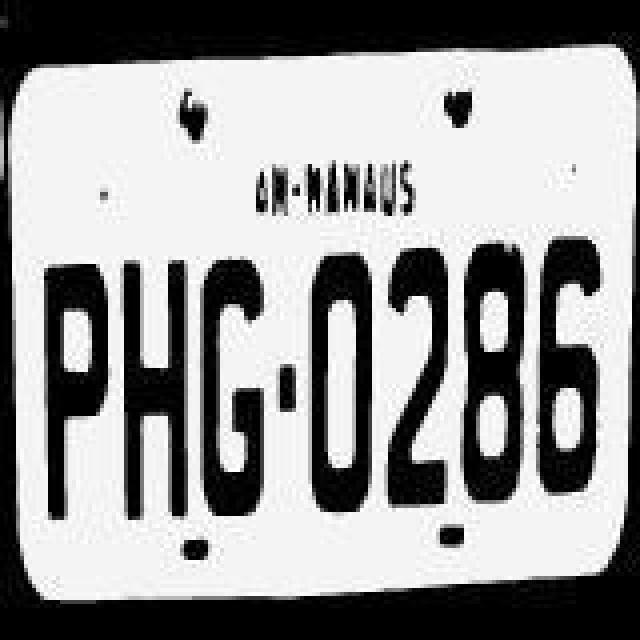2: (384, 238, 456, 522)
6: (530, 234, 598, 518)
8: (462, 236, 530, 516)
G: (192, 252, 264, 532)
H: (112, 252, 192, 524)
O: (306, 242, 374, 526)
P: (36, 254, 116, 530)
